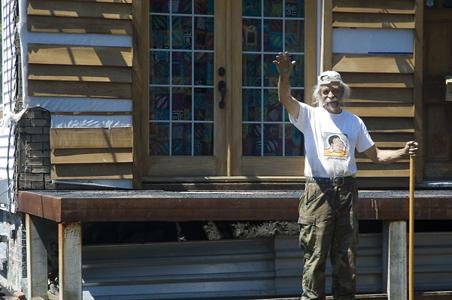person: (274, 52, 418, 300)
